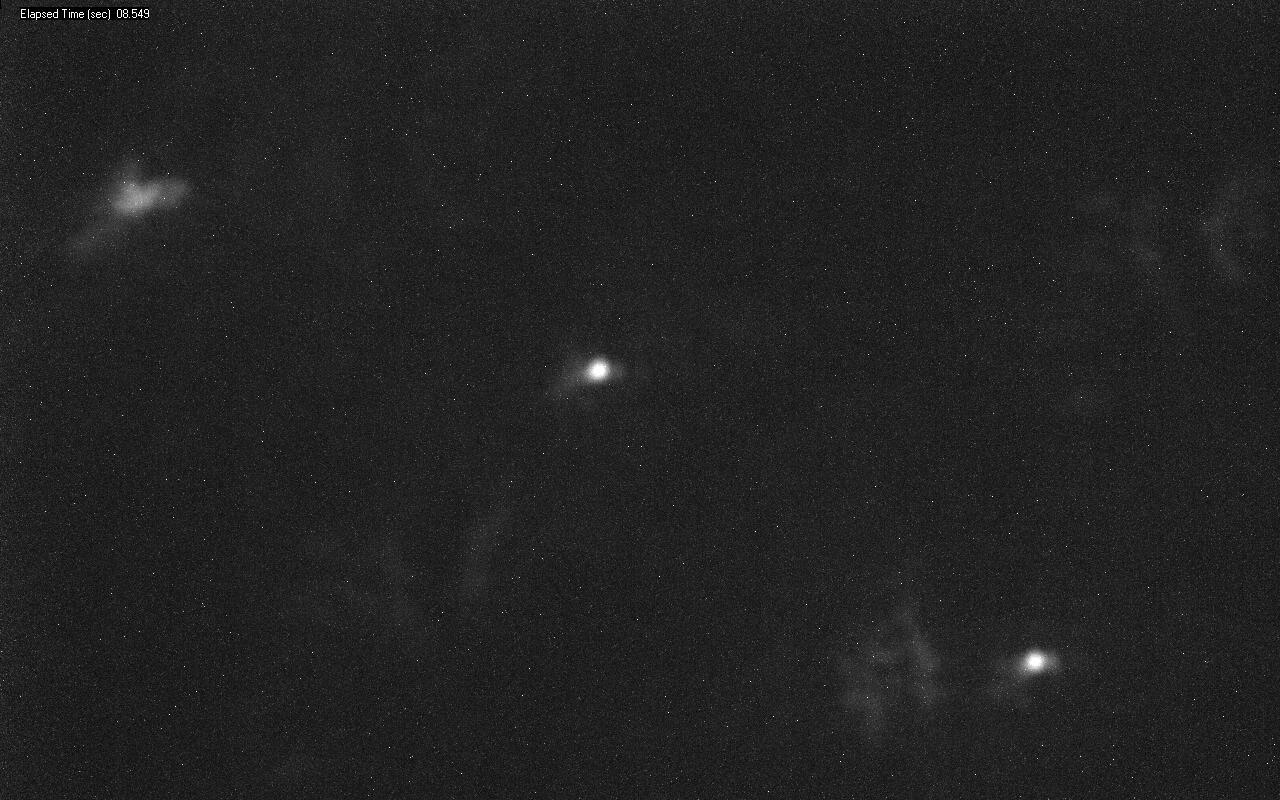Bead: (1019, 649, 1058, 675), (587, 359, 609, 380)
